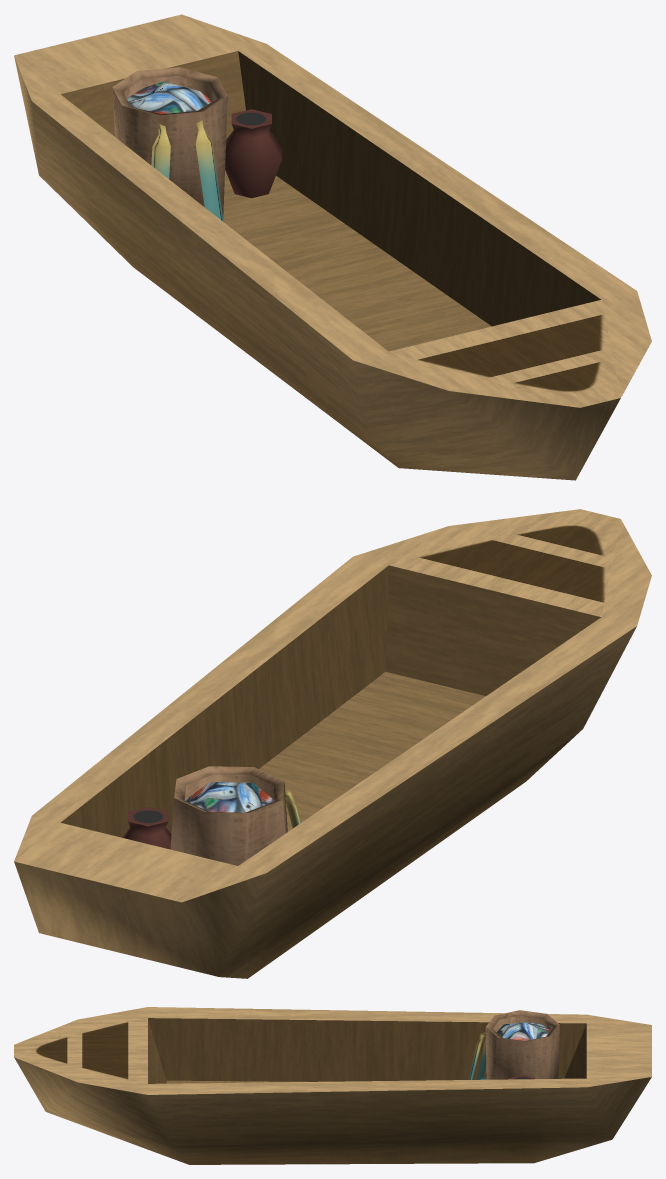
Rendered from boat.fbx.
The picture shows the model from 3 angles, top to bottom: view 1: azimuth 30°, elevation 25°; view 2: azimuth 150°, elevation 25°; view 3: azimuth 270°, elevation 25°; orthographic projection. The views are drawn at different scales.
Visible parts, largest first — view 1: boat; view 2: boat; view 3: boat.
Boxes of the visible parts, x1,y1,x2,y2 form: boat: [14, 14, 651, 480]; boat: [14, 509, 651, 978]; boat: [14, 1007, 651, 1164].
Size of the model in its own units: 63.23 by 38.21 by 194.
1 material, 1 textured.
